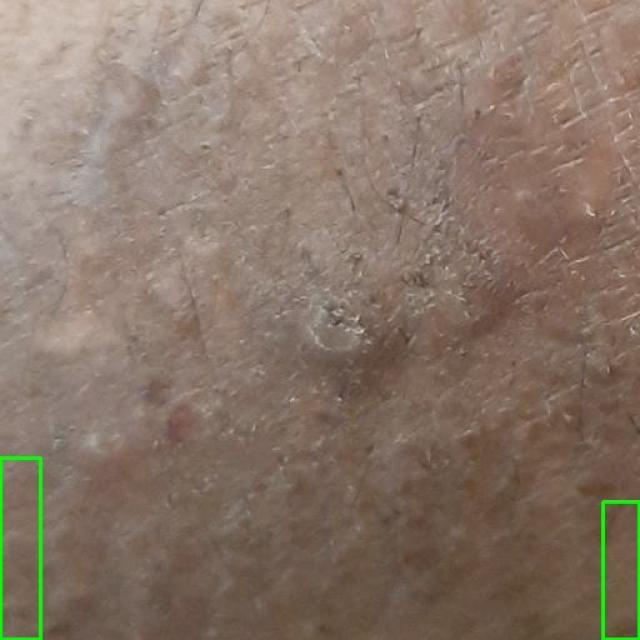Eczema: (0, 458, 40, 639), (602, 501, 639, 639)
